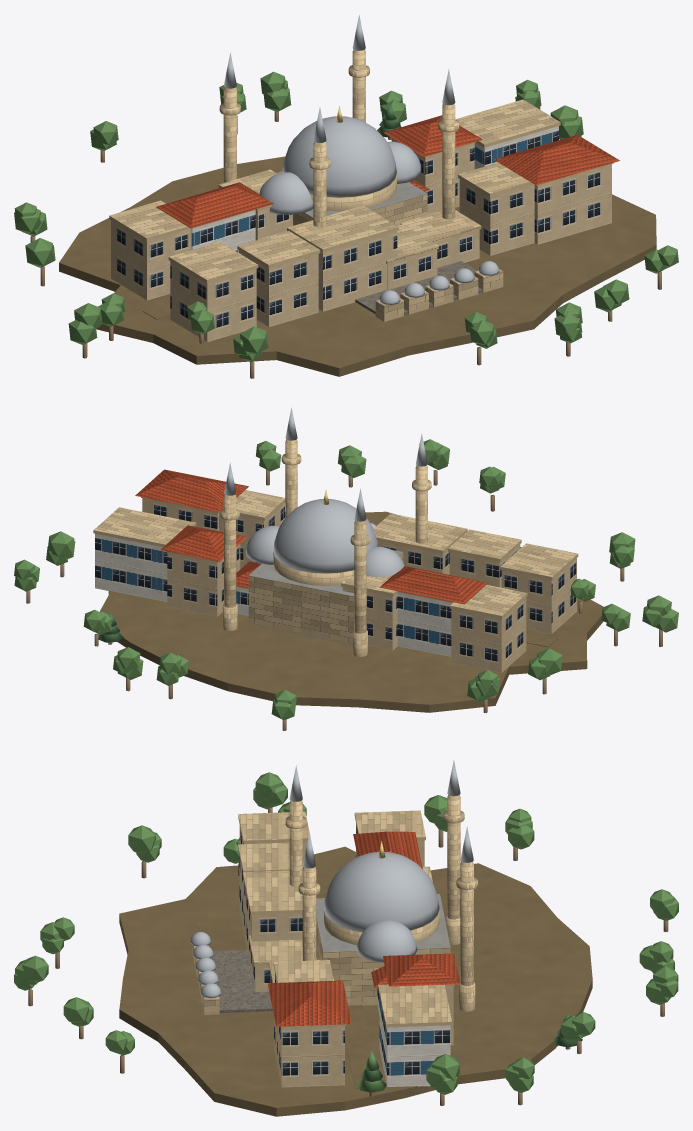
Rendered from city_orient_town.glb.
3 renders of one model, top to bottom at view 1: azimuth 30°, elevation 25°; view 2: azimuth 150°, elevation 25°; view 3: azimuth 270°, elevation 25°, orthographic. The views are drawn at different scales.
Parts seen in each view (by area): view 1: city_orient_town; view 2: city_orient_town; view 3: city_orient_town.
Boxes of the visible parts, x1,y1,x2,y2 form: city_orient_town: (14,15,678,378); city_orient_town: (14,407,678,730); city_orient_town: (14,760,678,1116).
Size of the model in its own units: 2.29 by 0.6934 by 2.18.
Materials: 12 (7 with a texture image).
